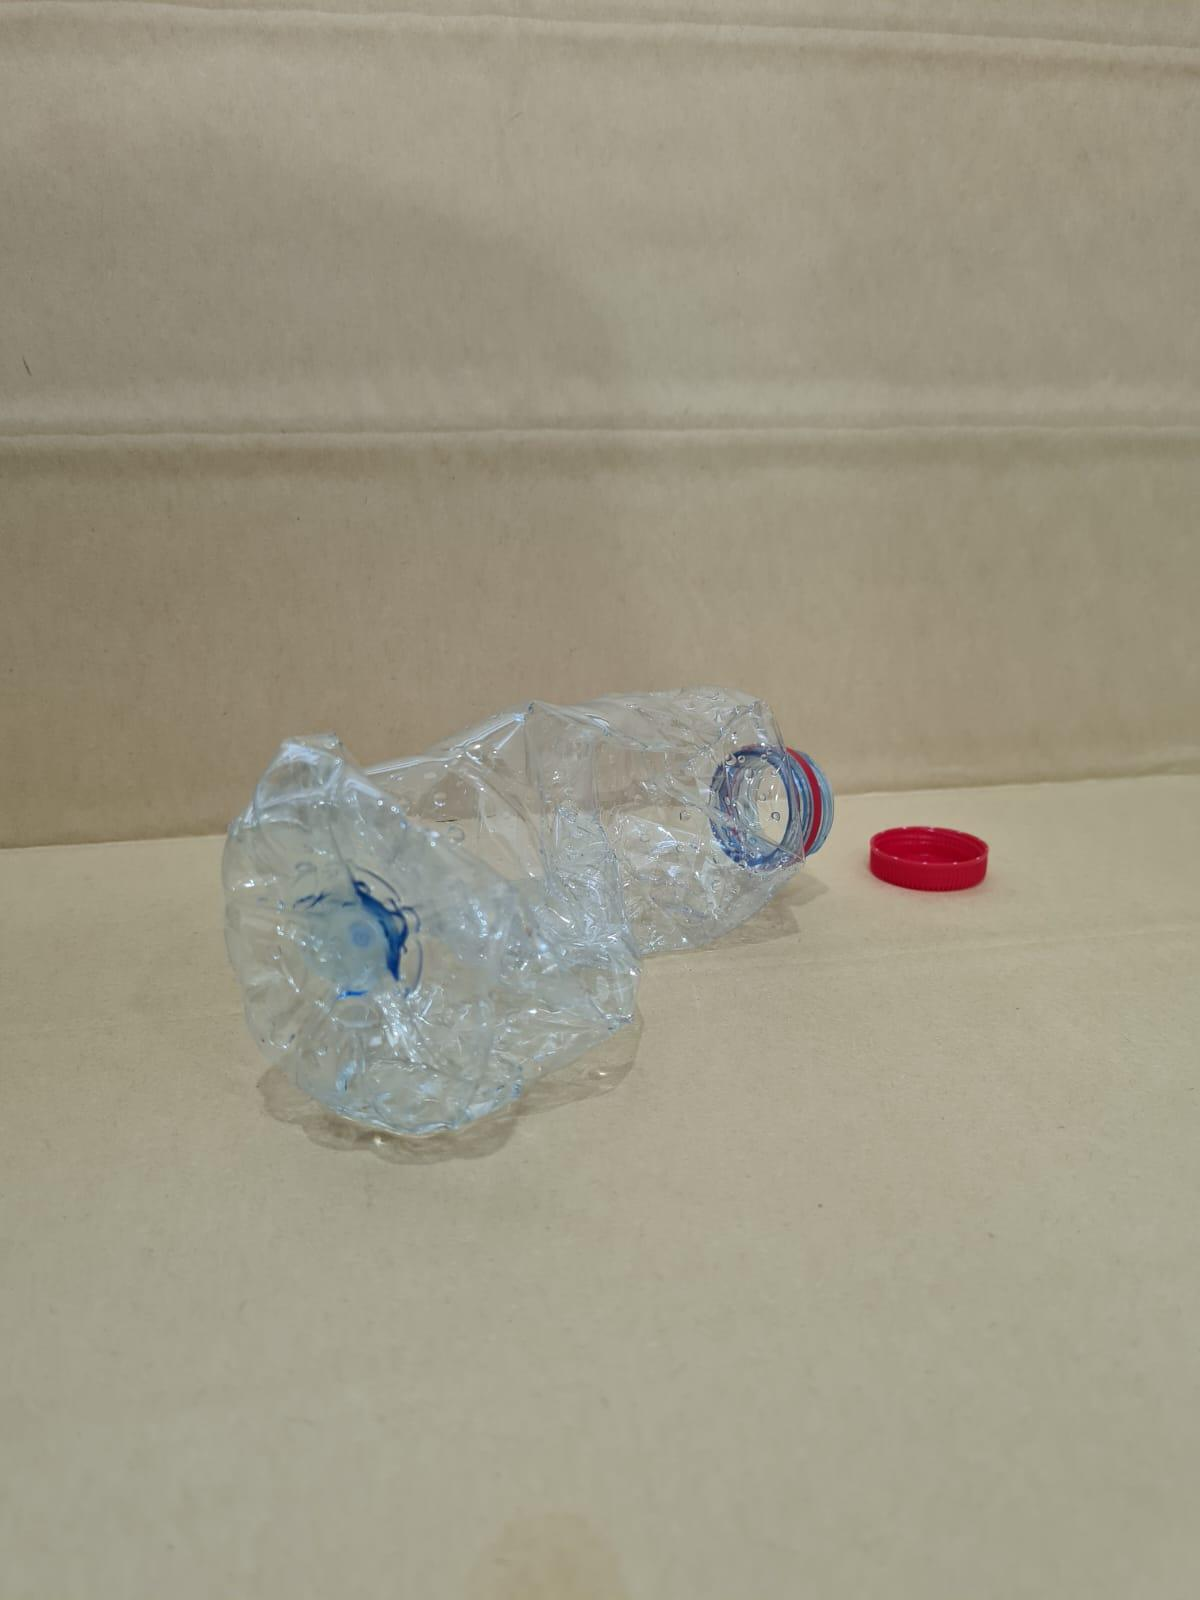bottle: (205, 717, 834, 1150)
